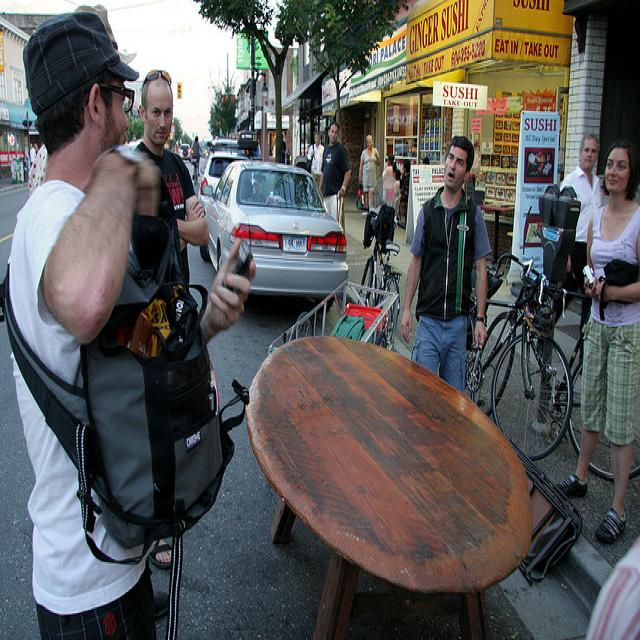Vehicle: (200, 161, 348, 319), (198, 153, 252, 200)
